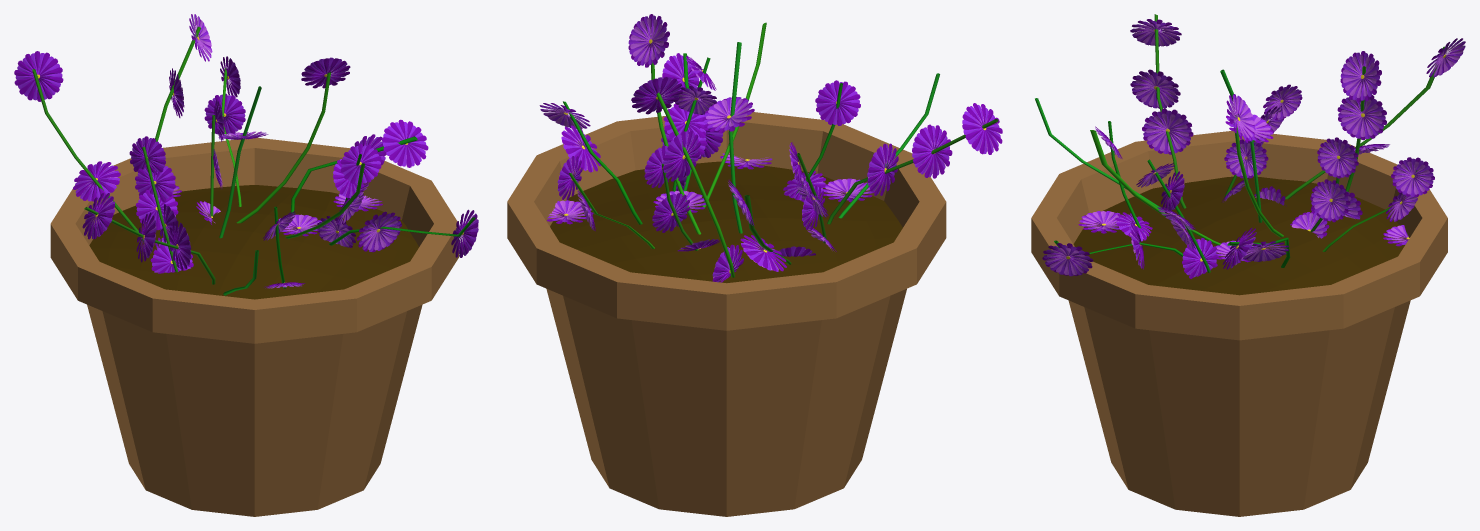
Rendered from Flower2_Frame2.fbx.
3 renders of one model, left to right at view 1: azimuth 30°, elevation 25°; view 2: azimuth 150°, elevation 25°; view 3: azimuth 270°, elevation 25°, orthographic. The views are drawn at different scales.
Parts seen in each view (by area): view 1: Cylinder.002, Circle.004, BézierCurve.002|Circle|Dupli|6, BézierCurve.001|Circle|Dupli|1, BézierCurve.002|Circle|Dupli|5, BézierCurve.001|Circle|Dupli|3, BézierCurve.004, BézierCurve.008|Circle.001|Dupli|1, BézierCurve.002, BézierCurve.004|Circle|Dupli|3, BézierCurve.005|Circle.001|Dupli|, BézierCurve.002|Circle|Dupli|1 (+15 smaller); view 2: Cylinder.002, Circle.004, BézierCurve.004|Circle|Dupli|3, BézierCurve.002|Circle|Dupli|, BézierCurve.008|Circle.001|Dupli|8, BézierCurve.002|Circle|Dupli|1, BézierCurve.003, BézierCurve.004|Circle|Dupli|1, BézierCurve.004|Circle|Dupli|, BézierCurve.003|Circle|Dupli|, BézierCurve.004, BézierCurve.002|Circle|Dupli|2 (+17 smaller); view 3: Cylinder.002, Circle.004, BézierCurve.002|Circle|Dupli|2, BézierCurve.004|Circle|Dupli|, BézierCurve.004|Circle|Dupli|1, BézierCurve.002|Circle|Dupli|, BézierCurve.005|Circle.001|Dupli|1, BézierCurve.007|Circle.001|Dupli|9, BézierCurve.007|Circle.001|Dupli|8, BézierCurve.001|Circle|Dupli|4, BézierCurve.002, BézierCurve.007|Circle.001|Dupli|4 (+18 smaller).
Part boxes in pixels (x1,y1,x2,y2): Cylinder.002: (50, 137, 458, 516); Circle.004: (89, 185, 418, 299); BézierCurve.002|Circle|Dupli|6: (14, 51, 63, 101); BézierCurve.001|Circle|Dupli|1: (382, 119, 428, 167); BézierCurve.002|Circle|Dupli|5: (73, 161, 120, 201); BézierCurve.001|Circle|Dupli|3: (356, 211, 401, 252); BézierCurve.004: (155, 26, 331, 223); BézierCurve.008|Circle.001|Dupli|1: (340, 143, 381, 184); BézierCurve.002: (32, 69, 215, 284); BézierCurve.004|Circle|Dupli|3: (301, 57, 350, 88); BézierCurve.005|Circle.001|Dupli|: (204, 93, 245, 134); BézierCurve.002|Circle|Dupli|1: (82, 193, 114, 239); Cylinder.002: (507, 112, 946, 516); Circle.004: (550, 161, 902, 283); BézierCurve.004|Circle|Dupli|3: (628, 14, 669, 67); BézierCurve.002|Circle|Dupli|: (912, 124, 952, 178); BézierCurve.008|Circle.001|Dupli|8: (815, 80, 860, 125); BézierCurve.002|Circle|Dupli|1: (962, 103, 1002, 154); BézierCurve.003: (728, 42, 939, 233); BézierCurve.004|Circle|Dupli|1: (631, 77, 682, 114); BézierCurve.004|Circle|Dupli|: (663, 130, 700, 181); BézierCurve.003|Circle|Dupli|: (702, 97, 754, 133); BézierCurve.004: (650, 35, 734, 277); BézierCurve.002|Circle|Dupli|2: (867, 143, 898, 195); Cylinder.002: (1031, 131, 1447, 516); Circle.004: (1073, 176, 1406, 295); BézierCurve.002|Circle|Dupli|2: (1142, 108, 1193, 154); BézierCurve.004|Circle|Dupli|: (1337, 95, 1386, 140); BézierCurve.004|Circle|Dupli|1: (1340, 51, 1381, 102); BézierCurve.002|Circle|Dupli|: (1130, 69, 1180, 108); BézierCurve.005|Circle.001|Dupli|1: (1391, 157, 1434, 196); BézierCurve.007|Circle.001|Dupli|9: (1317, 137, 1358, 178); BézierCurve.007|Circle.001|Dupli|8: (1310, 179, 1350, 222); BézierCurve.001|Circle|Dupli|4: (1042, 243, 1093, 276); BézierCurve.002: (1154, 14, 1447, 208); BézierCurve.007|Circle.001|Dupli|4: (1224, 139, 1268, 178).
Bounding box in the file's own units: 2.48 × 2.45 × 2.36.
